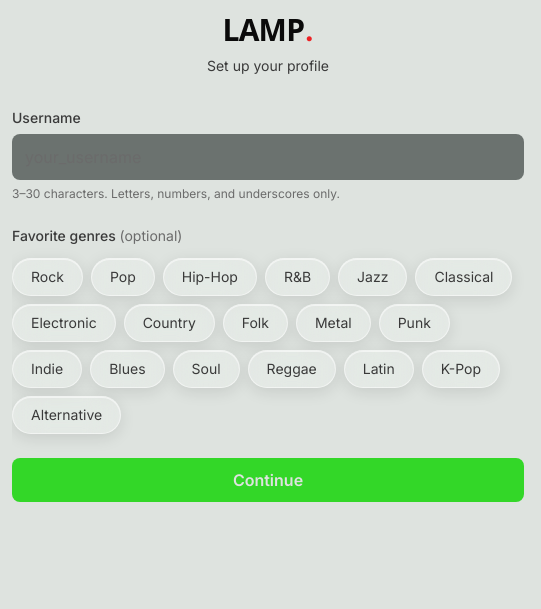
Test: OnboardingForm › shows error for username shorter than 3 chars
The width and height of the screenshot is (541, 609).
In the field labelled "Username": (268, 157) [12, 134, 524, 180], type "ab"
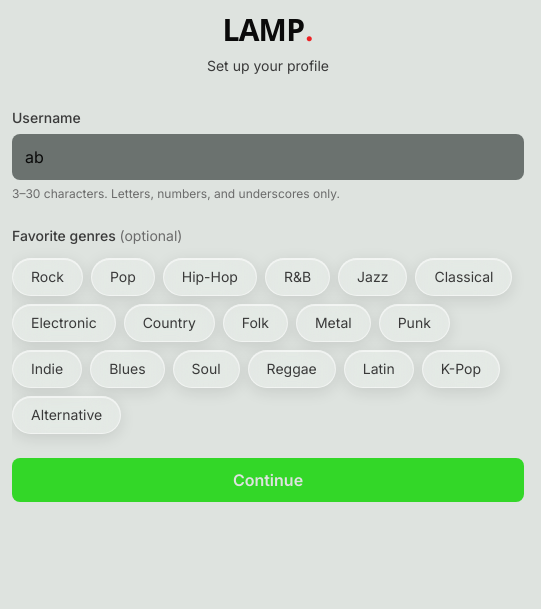
Click the button "Continue": (268, 480) [12, 458, 524, 502]
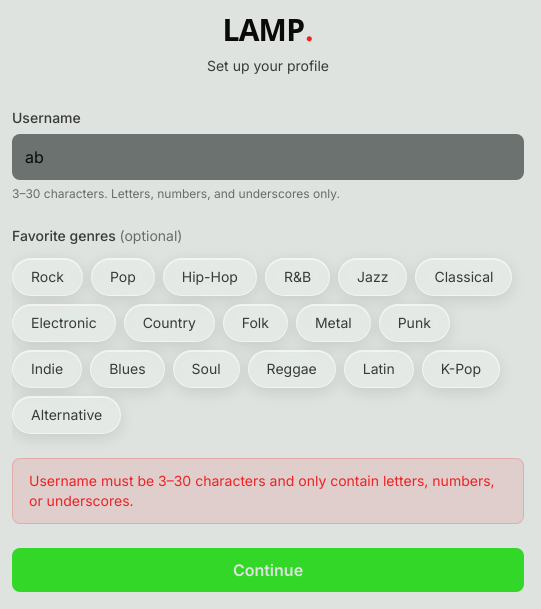
Check: the text "Username must be 3–30 characters" is shown, box [29, 472, 495, 509]
